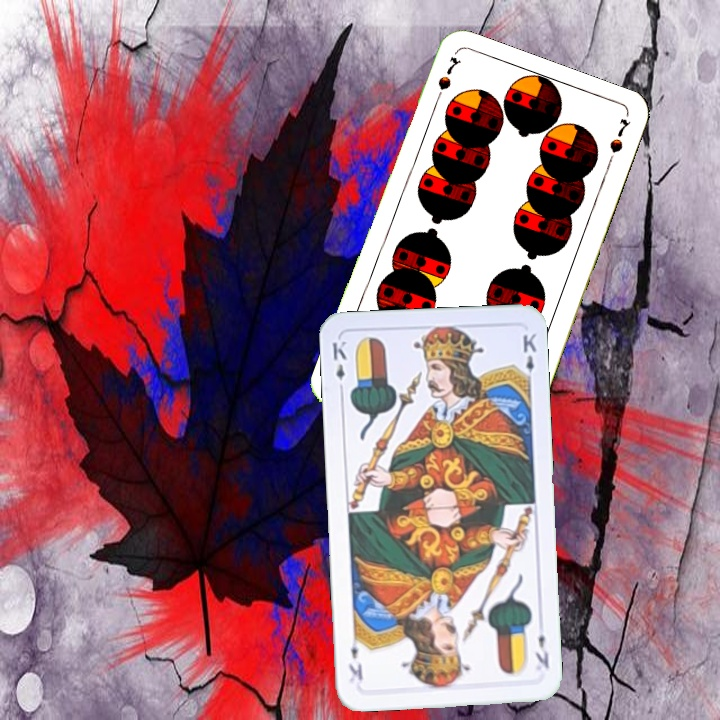EK: (328, 337, 349, 396), (531, 630, 552, 671)
S7: (430, 52, 463, 108)
